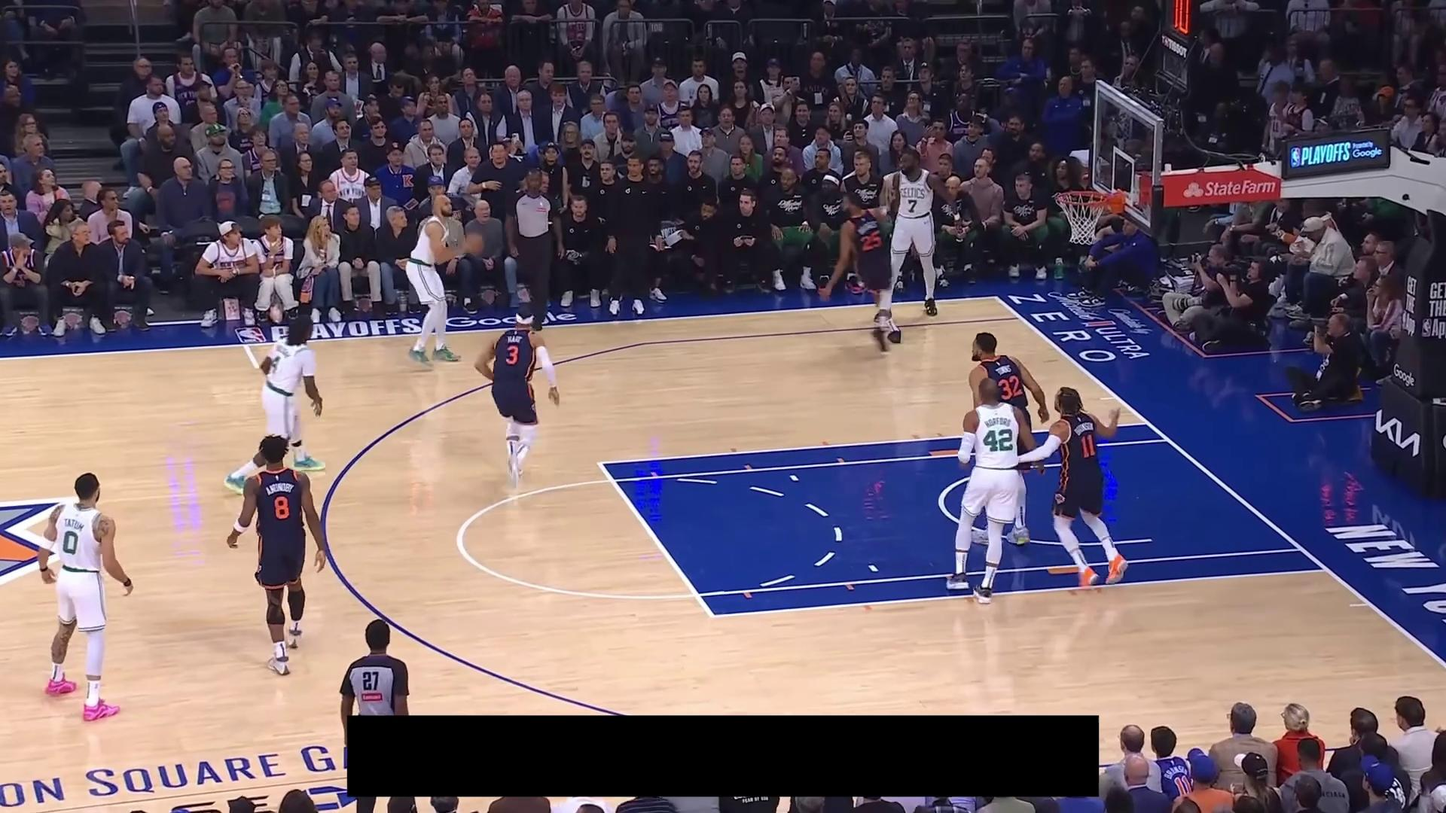ball: (462, 232, 484, 255)
number: (984, 428, 1014, 452), (997, 375, 1022, 400), (862, 228, 882, 252), (1080, 433, 1096, 459), (274, 495, 290, 519), (63, 531, 78, 555), (505, 344, 519, 366), (270, 354, 282, 375), (906, 198, 919, 213)
player: (224, 434, 330, 678), (37, 473, 134, 723), (944, 373, 1047, 605), (1015, 386, 1130, 589), (223, 315, 327, 498), (968, 332, 1051, 545), (474, 306, 563, 491), (874, 148, 959, 323), (817, 190, 903, 353)
player-in-possession: (403, 191, 485, 370)
referee: (339, 618, 413, 813), (505, 167, 566, 333)
rim: (1055, 190, 1109, 206)
